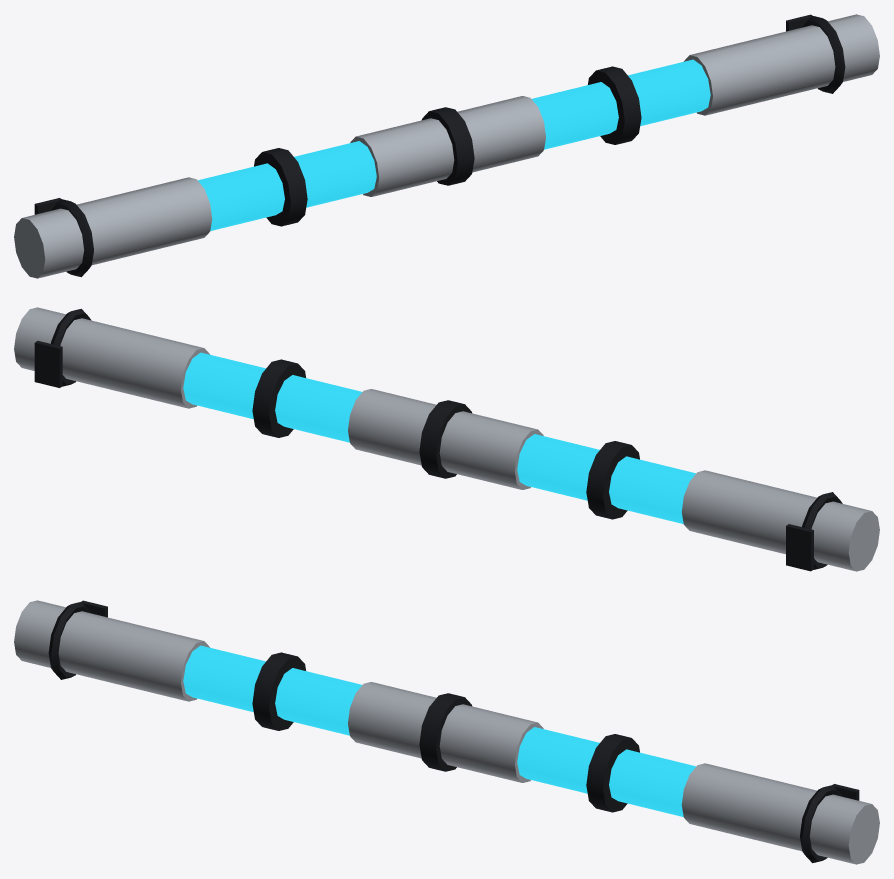
Rendered from pipe_coolant_glow.glb.
The picture shows the model from 3 angles, top to bottom: view 1: azimuth 30°, elevation 25°; view 2: azimuth 150°, elevation 25°; view 3: azimuth 330°, elevation 25°; orthographic projection.
Parts seen in each view (by area): view 1: pipe_coolant_glow; view 2: pipe_coolant_glow; view 3: pipe_coolant_glow.
Part boxes in pixels (left/top/right/bottom): pipe_coolant_glow: left=14, top=14, right=879, bottom=278; pipe_coolant_glow: left=14, top=307, right=879, bottom=571; pipe_coolant_glow: left=14, top=600, right=879, bottom=864.
Bounding box in the file's own units: 2 × 0.168 × 0.184.
